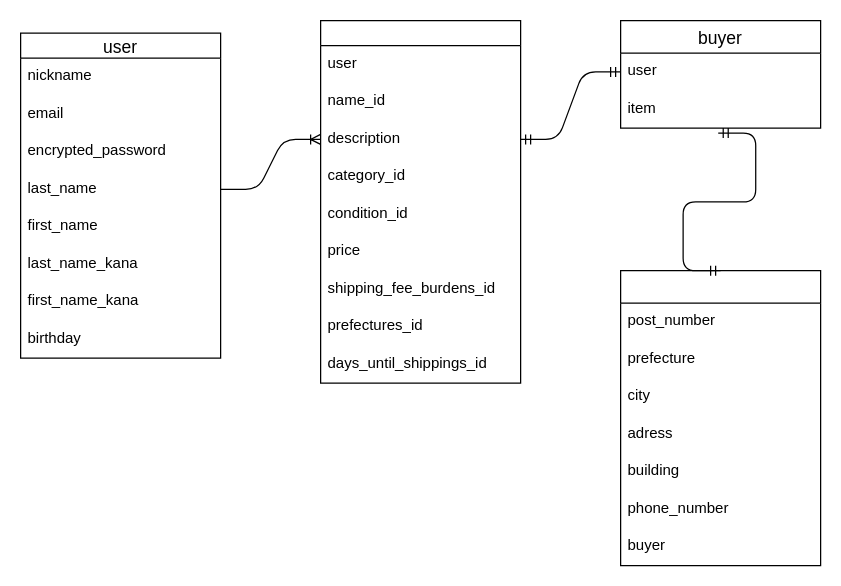
The diagram is 841 pixels wide and 586 high, and some of its shapes have lost their labels. Each missing label, with the box of its shape:
address: (619, 269, 821, 566)
items: (319, 19, 521, 383)
